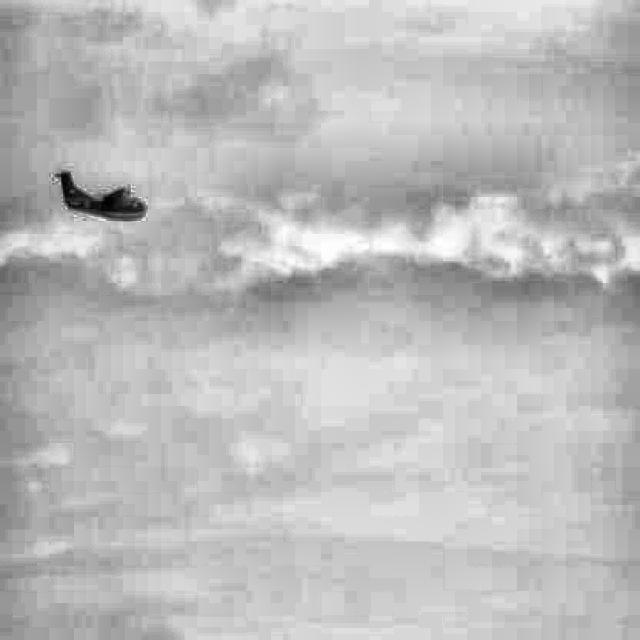US2: (54, 170, 148, 221)
